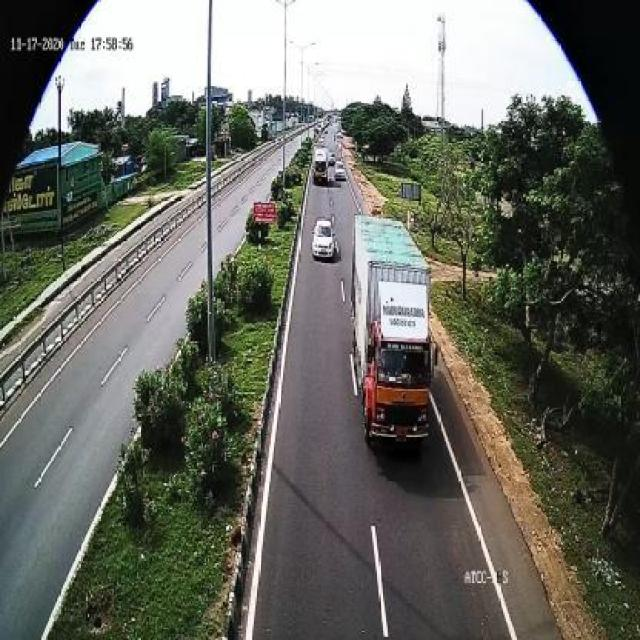car: (314, 212, 338, 265), (311, 145, 334, 186)
